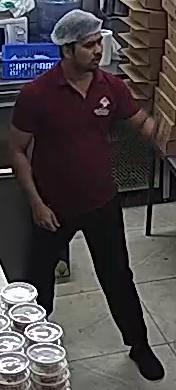no_apron: (32, 58, 129, 200)
